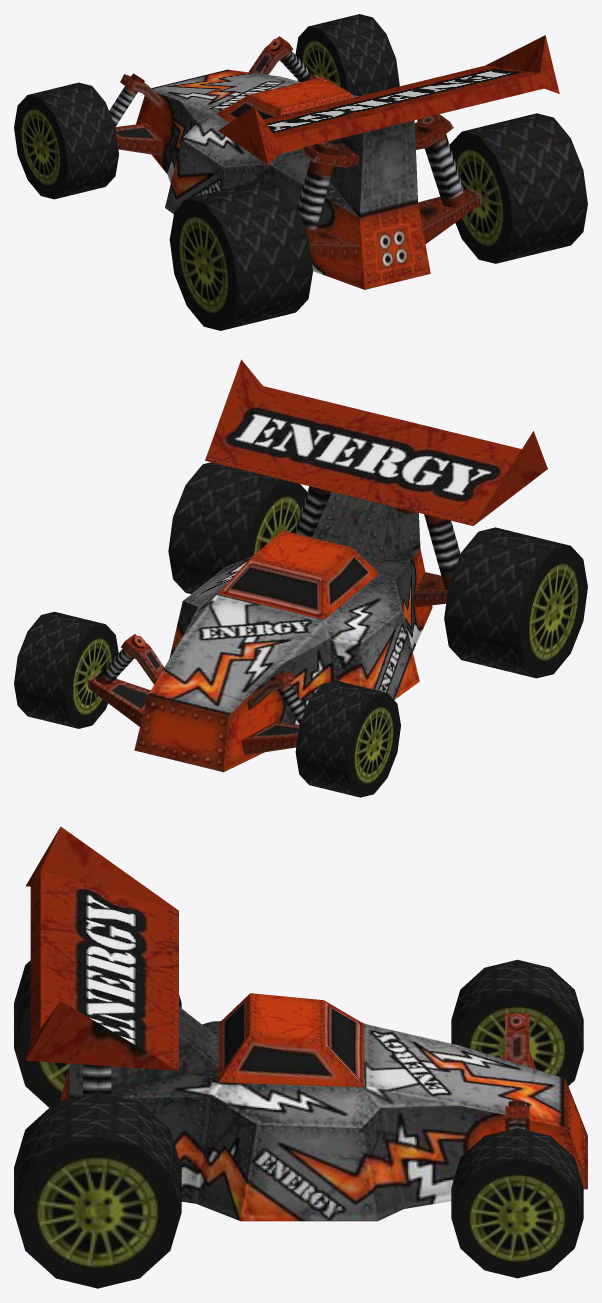
The model's file is car9.fbx.
The picture shows the model from 3 angles, top to bottom: view 1: azimuth 30°, elevation 25°; view 2: azimuth 150°, elevation 25°; view 3: azimuth 270°, elevation 25°; orthographic projection. The views are drawn at different scales.
Visible parts, largest first — view 1: car1; view 2: car1; view 3: car1.
Boxes of the visible parts, x1,y1,x2,y2 form: car1: [14, 14, 587, 330]; car1: [14, 359, 587, 797]; car1: [14, 826, 587, 1288].
Bounding box in the file's own units: 171 × 104 × 198.
